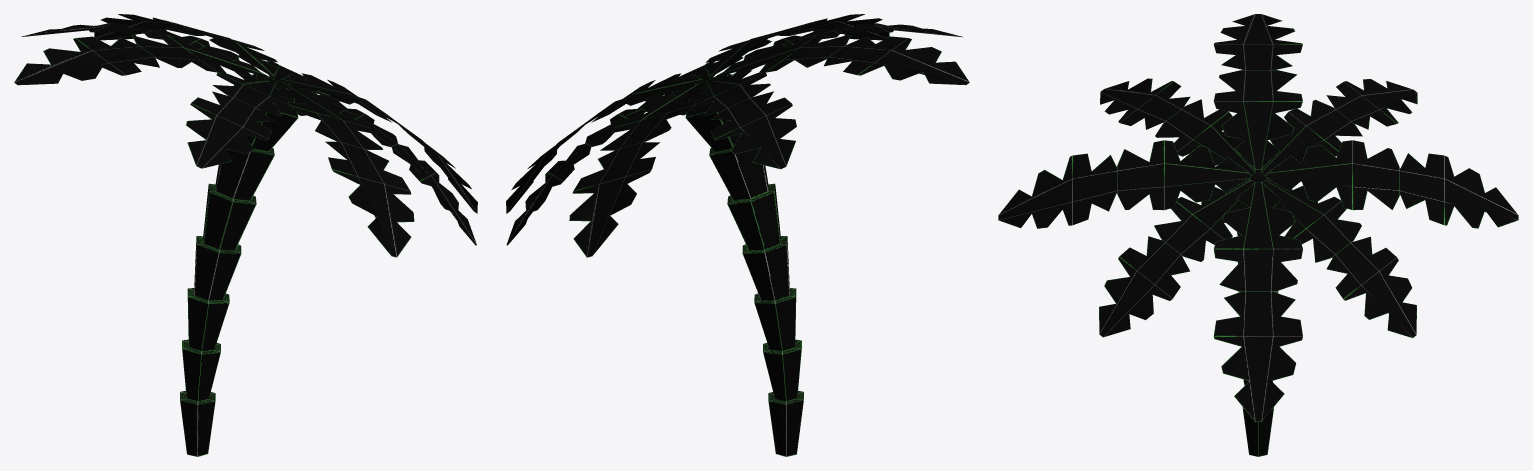
Rendered from palm tree.FBX.
3 views of the same model, side by side, from view 1: azimuth 30°, elevation 25°; view 2: azimuth 150°, elevation 25°; view 3: azimuth 270°, elevation 25° (orthographic). The views are drawn at different scales.
Visible parts, largest first — view 1: Base, Plane002, Plane001, Plane006, Plane007, Plane004, Plane003, Plane005, Plane008; view 2: Base, Plane004, Plane001, Plane005, Plane008, Plane003, Plane002, Plane006, Plane007; view 3: Plane003, Plane002, Plane004, Plane001, Plane008, Plane007, Plane006, Plane005, Base.
Boxes of the visible parts, bbox=[...] form: Base: bbox=[180, 74, 298, 456]; Plane002: bbox=[275, 81, 414, 257]; Plane001: bbox=[14, 35, 269, 85]; Plane006: bbox=[186, 72, 295, 168]; Plane007: bbox=[297, 88, 476, 245]; Plane004: bbox=[94, 14, 277, 75]; Plane003: bbox=[281, 73, 477, 213]; Plane005: bbox=[21, 23, 267, 78]; Plane008: bbox=[261, 59, 339, 115]; Base: bbox=[685, 74, 803, 456]; Plane004: bbox=[569, 81, 708, 257]; Plane001: bbox=[714, 35, 969, 85]; Plane005: bbox=[690, 70, 796, 169]; Plane008: bbox=[506, 87, 686, 245]; Plane003: bbox=[506, 73, 702, 213]; Plane002: bbox=[705, 14, 889, 75]; Plane006: bbox=[716, 23, 962, 78]; Plane007: bbox=[645, 61, 715, 115]; Plane003: bbox=[1213, 182, 1302, 421]; Plane002: bbox=[998, 140, 1250, 228]; Plane004: bbox=[1266, 140, 1518, 228]; Plane001: bbox=[1213, 14, 1302, 169]; Plane008: bbox=[1262, 180, 1416, 338]; Plane007: bbox=[1099, 180, 1254, 337]; Plane006: bbox=[1100, 78, 1255, 175]; Plane005: bbox=[1261, 79, 1417, 175]; Base: bbox=[1237, 169, 1278, 456].
Size of the model in its own units: 103 by 90.07 by 116.
